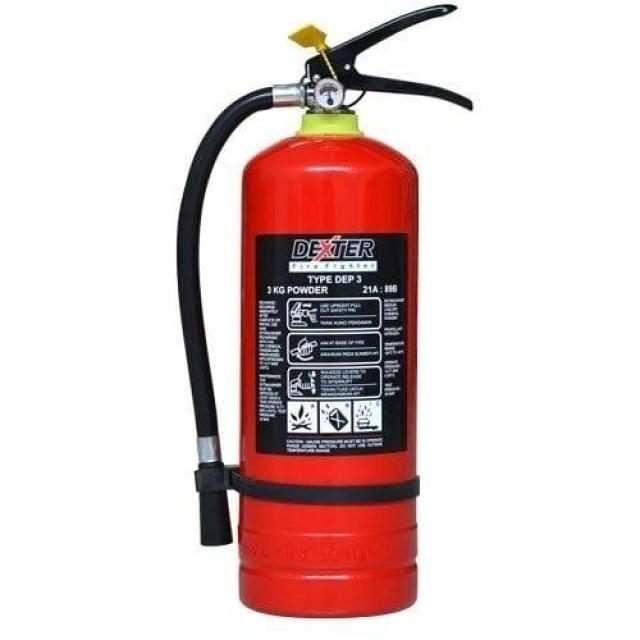fire_extinguisher: (168, 0, 481, 625)
